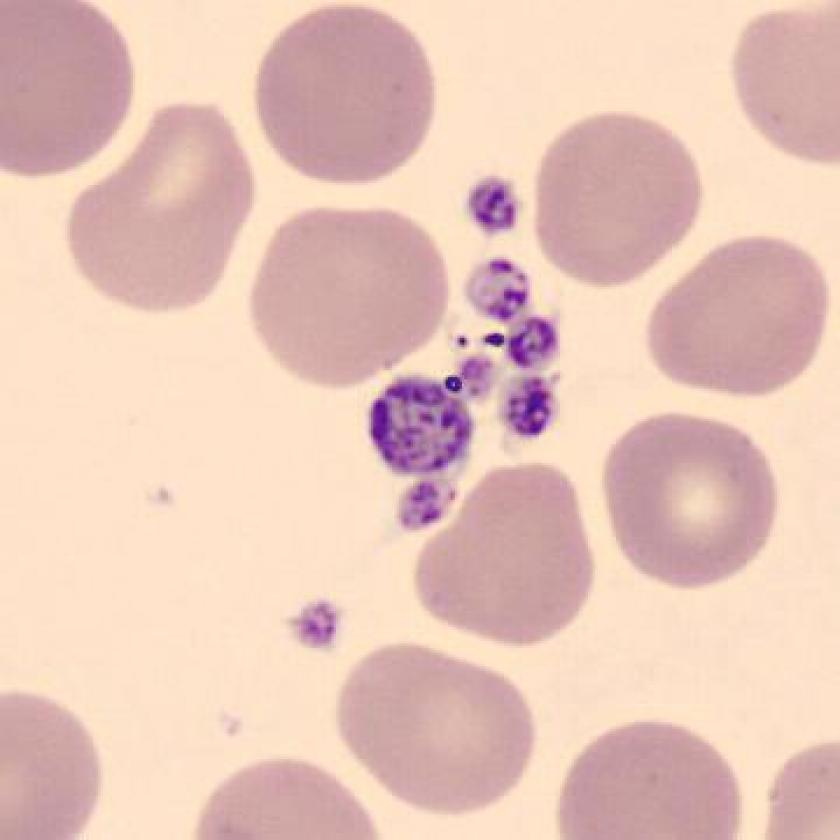platelets: (363, 369, 479, 485), (452, 251, 536, 327), (498, 367, 568, 450), (459, 168, 529, 244), (388, 478, 468, 543), (505, 314, 570, 388), (281, 589, 346, 660)
